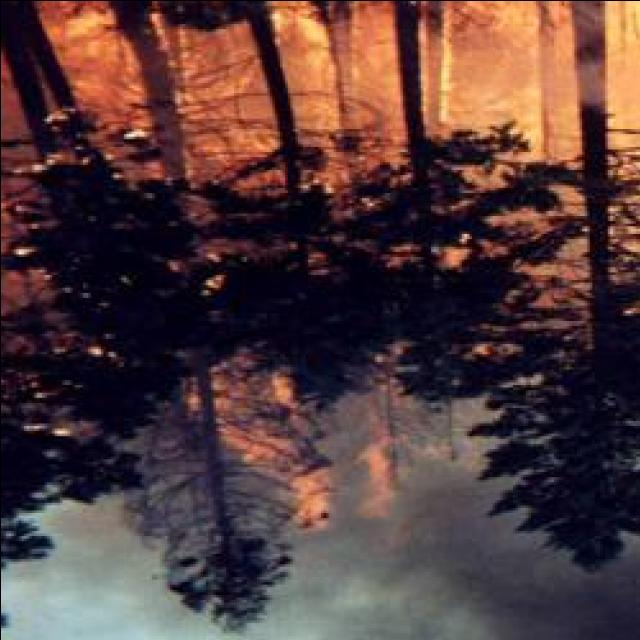fire: (418, 16, 452, 124)
smoke: (327, 513, 489, 639), (440, 578, 639, 636)
